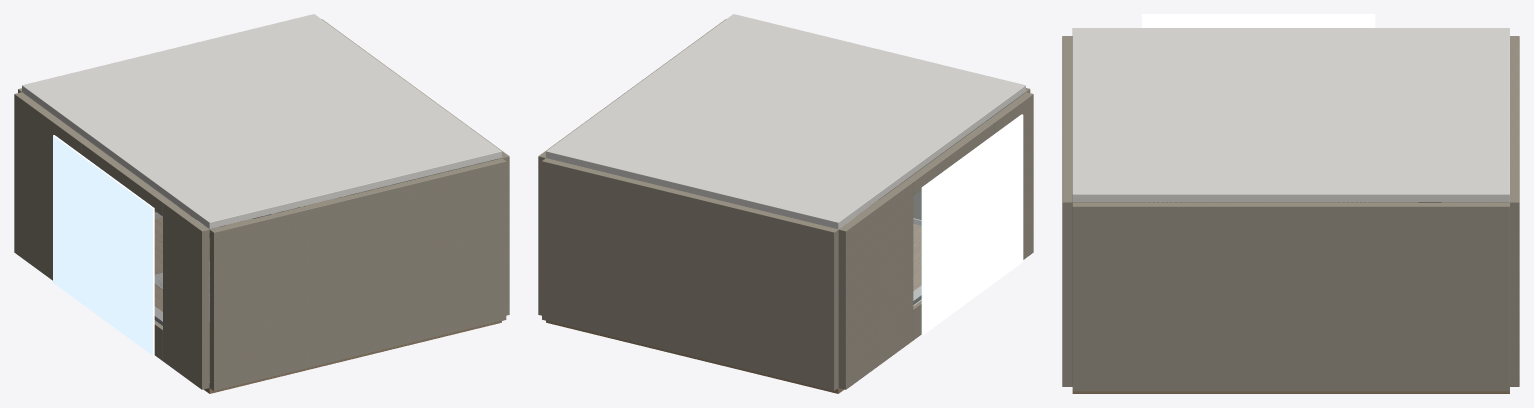
File: listening-room.glb
3 renders of one model, left to right at view 1: azimuth 30°, elevation 25°; view 2: azimuth 150°, elevation 25°; view 3: azimuth 270°, elevation 25°, orthographic. The views are drawn at different scales.
Parts seen in each view (by area): view 1: Architecture cutaway | ceiling.001, Architecture cutaway | listener wall.001, Room | Limewash | mineral microtexture, Room | Window | soft garden daylight, Architecture cutaway | right wall.001, Room | Window | clear glass, Room | Oak - natural oil and open grain, Room | Oak plank 02; view 2: Architecture cutaway | ceiling.001, Cable access | Room | rear plaster wall, Room | Limewash | mineral microtexture, Room | Window | soft garden daylight, Room | Window | clear glass, Architecture cutaway | right wall.001, Room | Oak plank 02, Room | Oak - natural oil and open grain; view 3: Architecture cutaway | right wall.001, Architecture cutaway | ceiling.001, Architecture cutaway | listener wall.001, Cable access | Room | rear plaster wall, Room | Window | soft garden daylight, Room | Oak plank 02.
Part boxes in pixels (x1,y1,x2,y2): Architecture cutaway | ceiling.001: (22, 14, 501, 229); Architecture cutaway | listener wall.001: (209, 158, 506, 390); Room | Limewash | mineral microtexture: (14, 92, 209, 389); Room | Window | soft garden daylight: (53, 135, 154, 355); Architecture cutaway | right wall.001: (322, 19, 509, 315); Room | Window | clear glass: (155, 211, 162, 326); Room | Oak - natural oil and open grain: (154, 198, 337, 381); Room | Oak plank 02: (204, 321, 501, 393); Architecture cutaway | ceiling.001: (546, 14, 1025, 229); Cable access | Room | rear plaster wall: (542, 158, 838, 390); Room | Limewash | mineral microtexture: (838, 92, 1033, 389); Room | Window | soft garden daylight: (921, 114, 1023, 335); Room | Window | clear glass: (913, 190, 921, 305); Architecture cutaway | right wall.001: (538, 19, 725, 315); Room | Oak plank 02: (546, 320, 843, 393); Room | Oak - natural oil and open grain: (913, 224, 921, 290); Architecture cutaway | right wall.001: (1072, 202, 1509, 391); Architecture cutaway | ceiling.001: (1072, 28, 1509, 201); Architecture cutaway | listener wall.001: (1062, 36, 1072, 386); Cable access | Room | rear plaster wall: (1509, 36, 1519, 386); Room | Window | soft garden daylight: (1142, 14, 1375, 27); Room | Oak plank 02: (1072, 391, 1509, 393).
Size of the model in its own units: 6.03 by 3.03 by 6.27.
43 materials, 9 textured.
